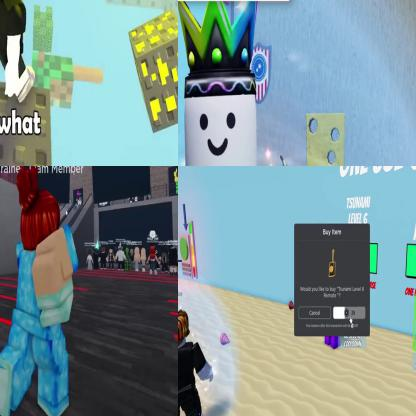Roblox-Avatar: (179, 1, 334, 166), (1, 167, 81, 416), (179, 309, 215, 416), (1, 1, 37, 105), (148, 246, 163, 277), (116, 243, 128, 272), (168, 247, 178, 278), (107, 248, 117, 272), (100, 247, 109, 270), (87, 248, 95, 272), (125, 248, 132, 273), (135, 248, 142, 272), (142, 248, 148, 273)
